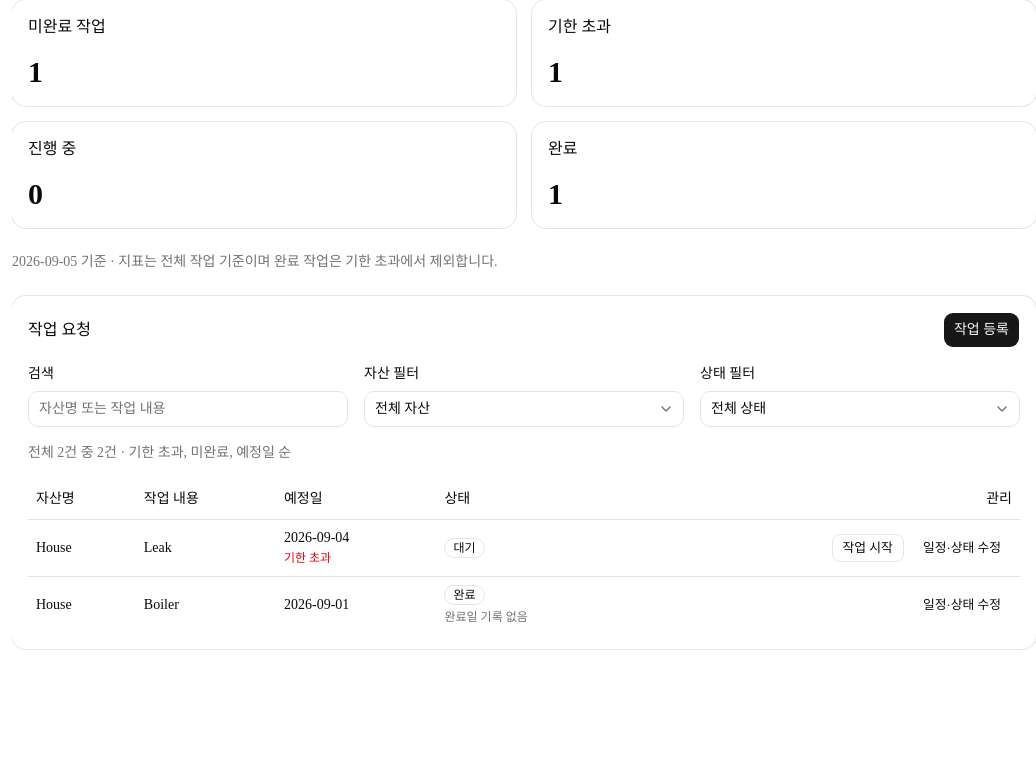
it: filters overdue tasks without including completed work
This screenshot has width=1036, height=768.
Select "기한 초과" in the dropdown labelled "상태 필터" at (860, 409), box [700, 391, 1020, 427]
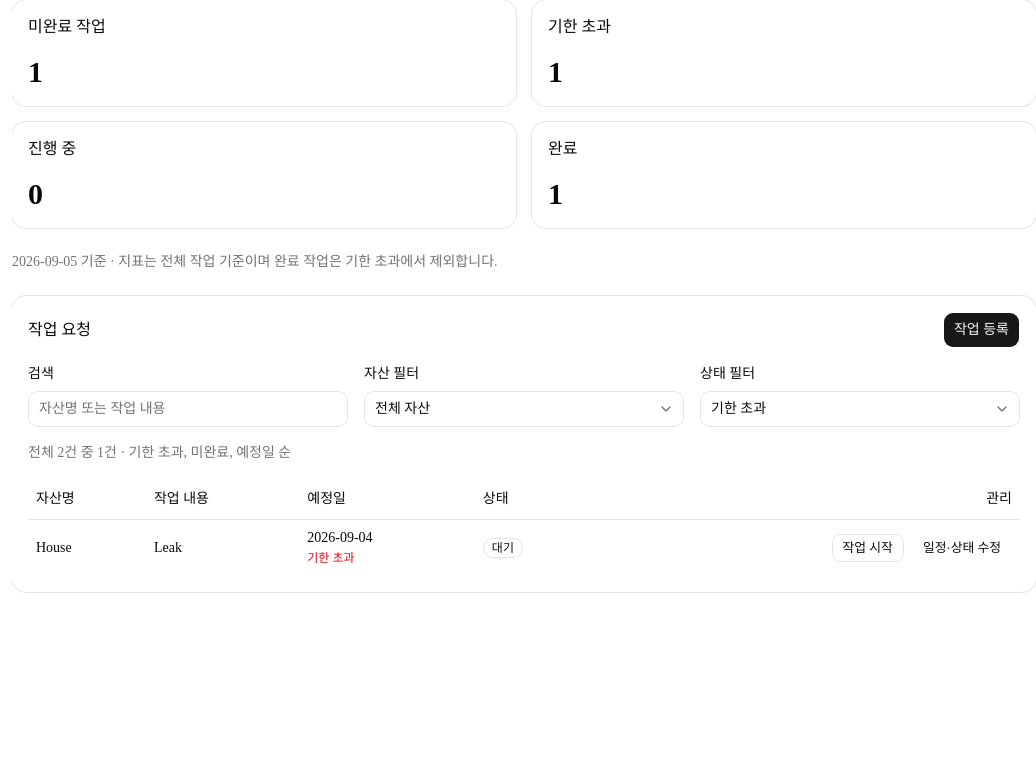
Expected: the text "Leak" is shown, [146, 519, 299, 576]
Now the text "Boiler" is gone
